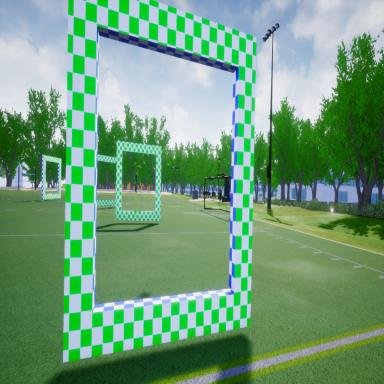gate: (60, 0, 257, 369), (114, 134, 164, 226), (40, 152, 62, 205)
